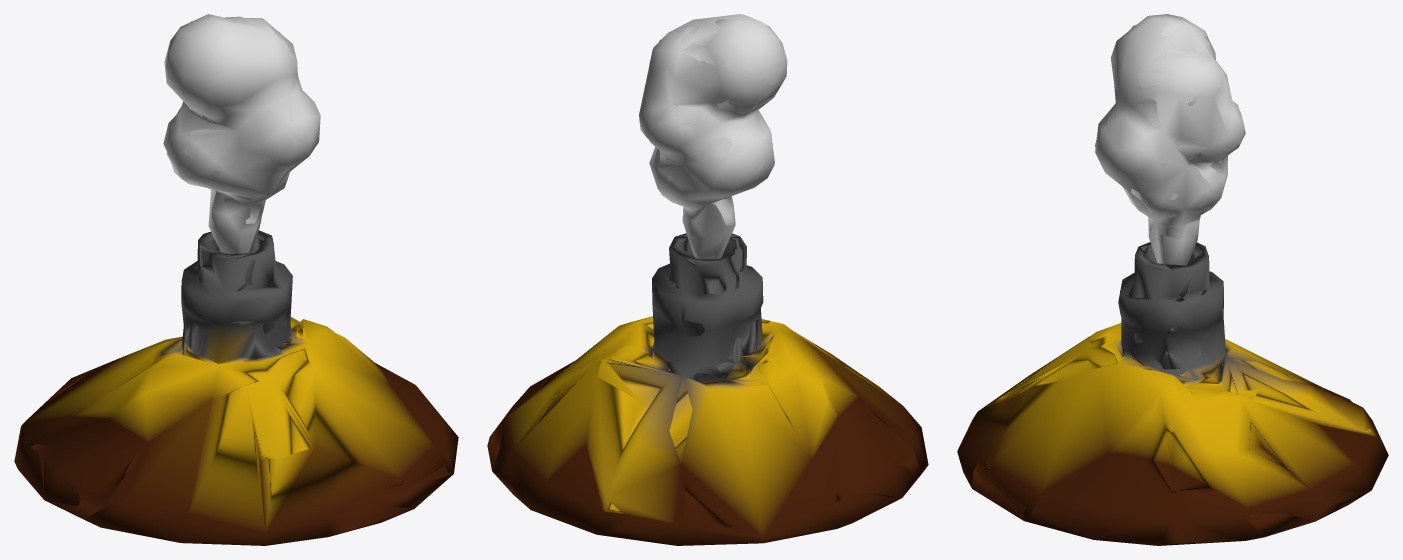
File: gen3d-steam-vent-lod1.glb
3 views of the same model, side by side, from view 1: azimuth 30°, elevation 25°; view 2: azimuth 150°, elevation 25°; view 3: azimuth 270°, elevation 25° (orthographic). The views are drawn at different scales.
Parts seen in each view (by area): view 1: part_0; view 2: part_0; view 3: part_0.
Boxes of the visible parts, box(x1,y1,x2,y2) form: part_0: box(14, 14, 458, 545); part_0: box(487, 14, 928, 545); part_0: box(957, 14, 1388, 545).
Bounding box in the file's own units: 0.9132 × 0.9982 × 0.9167.
